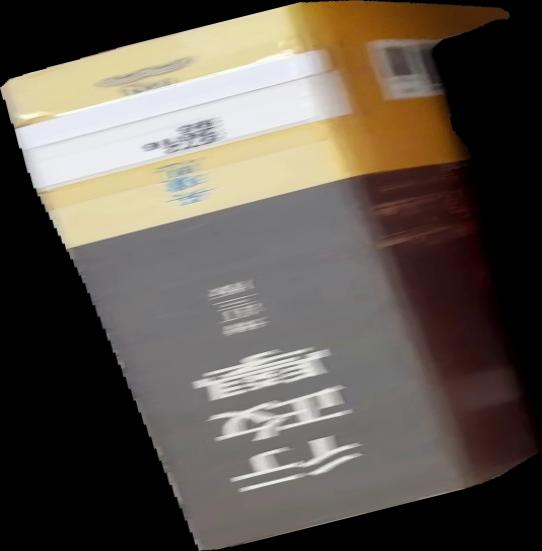reverse: (1, 1, 542, 551)
